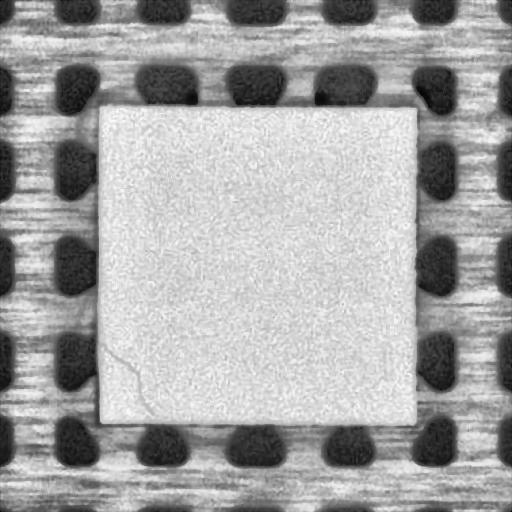DIE_CRACK: (100, 338, 156, 417)
